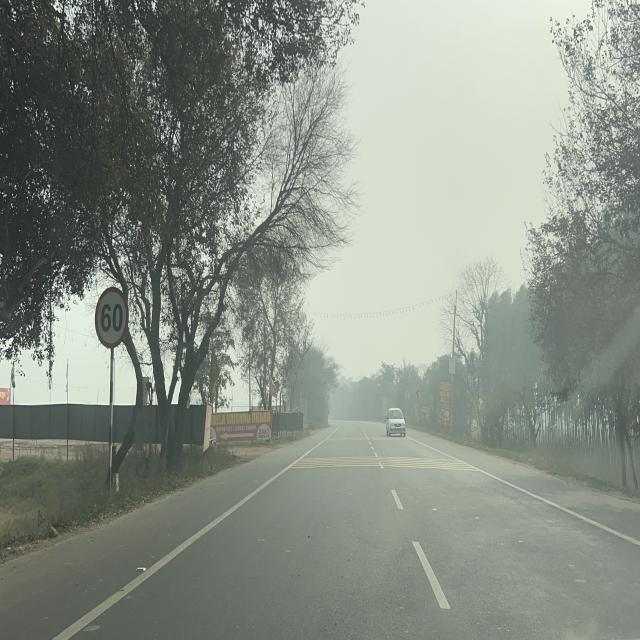SPEED_LIMIT_60: (95, 285, 130, 346)
TURN_LEFT: (416, 389, 420, 398)
